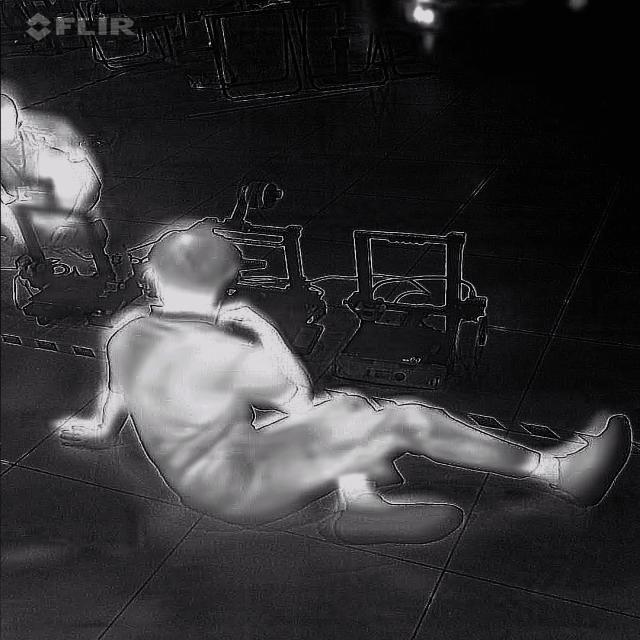Victim: (40, 212, 636, 564), (0, 69, 123, 277)
